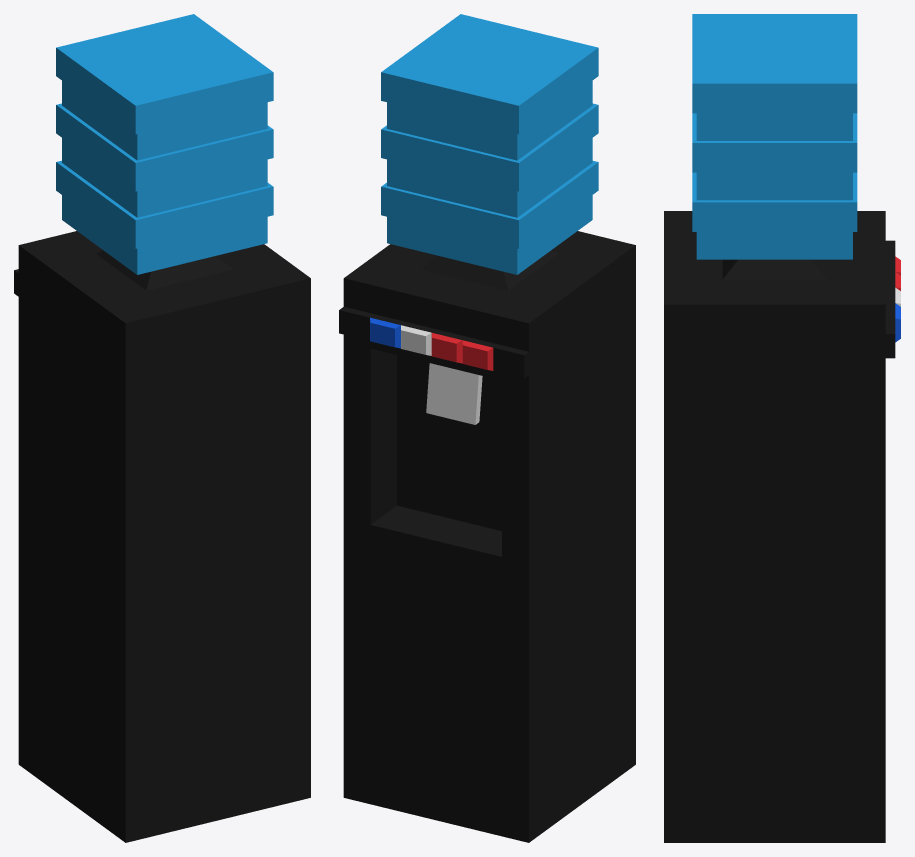
The model's file is WaterDispenser_000.glb.
The picture shows the model from 3 angles, left to right: view 1: azimuth 30°, elevation 25°; view 2: azimuth 150°, elevation 25°; view 3: azimuth 270°, elevation 25°; orthographic projection. The views are drawn at different scales.
Parts seen in each view (by area): view 1: Cube; view 2: Cube; view 3: Cube.
Boxes of the visible parts, x1=… form: Cube: x1=14, y1=14, x2=310, y2=842; Cube: x1=339, y1=14, x2=635, y2=842; Cube: x1=664, y1=14, x2=900, y2=842.
Size of the model in its own units: 0.4666 by 1.74 by 0.499.
